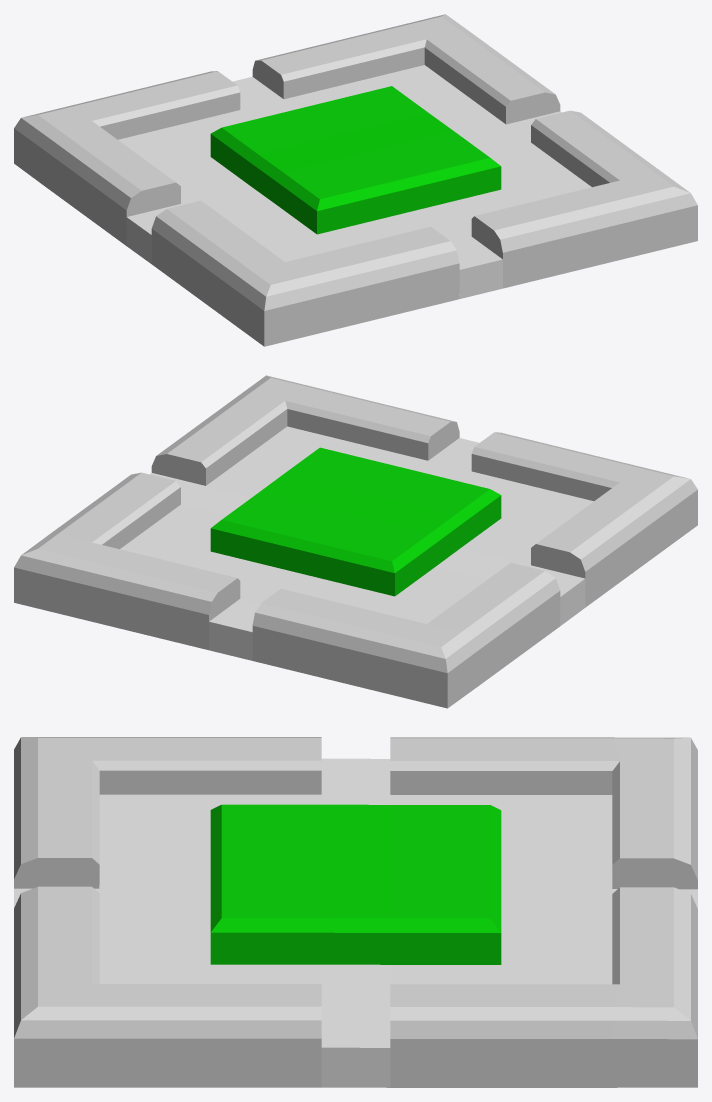
Rendered from PowerPad.fbx.
3 views of the same model, one above another, from view 1: azimuth 30°, elevation 25°; view 2: azimuth 150°, elevation 25°; view 3: azimuth 270°, elevation 25° (orthographic). The views are drawn at different scales.
Visible parts, largest first — view 1: Cube; view 2: Cube; view 3: Cube.
Boxes of the visible parts, x1,y1,x2,y2 form: Cube: (14, 14, 697, 346); Cube: (14, 375, 697, 708); Cube: (14, 737, 697, 1087).
Bounding box in the file's own units: 200 × 26.44 × 200.
